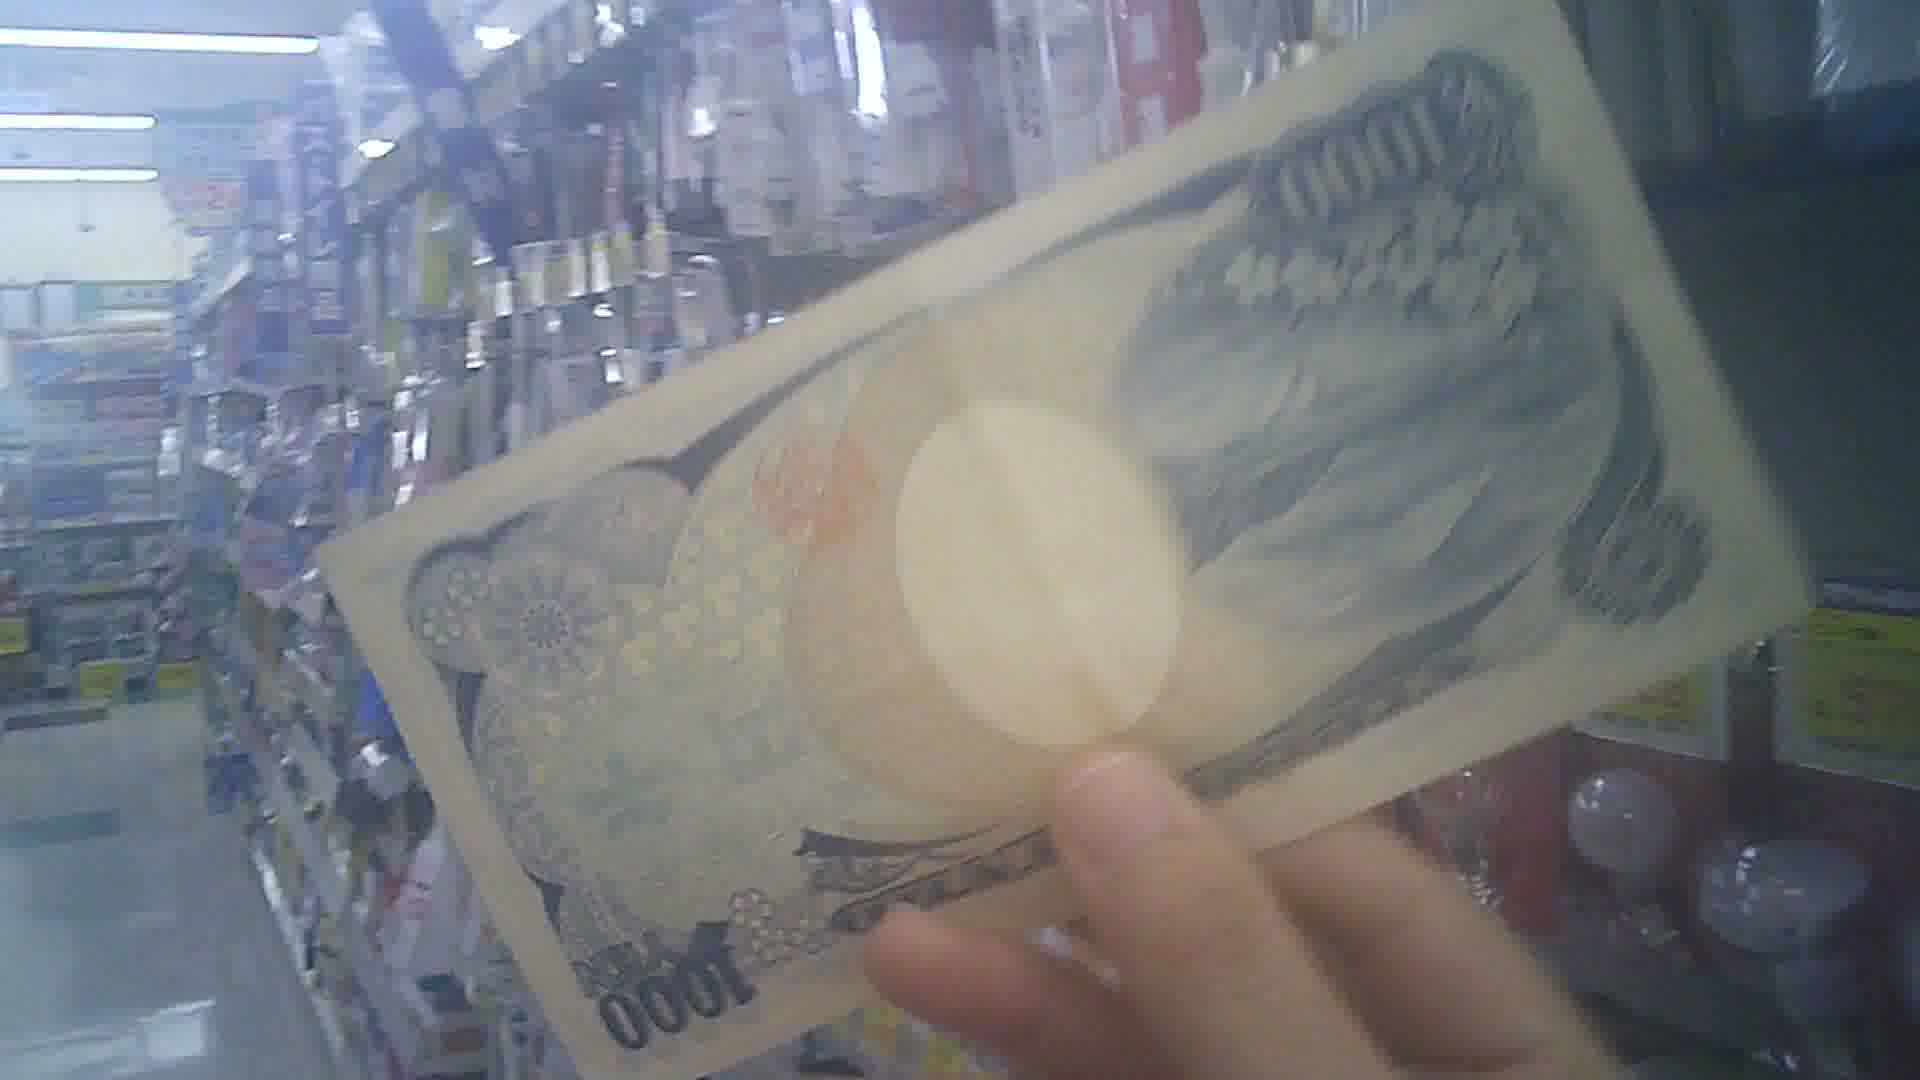1,000 Yen: (320, 22, 1815, 1079)
